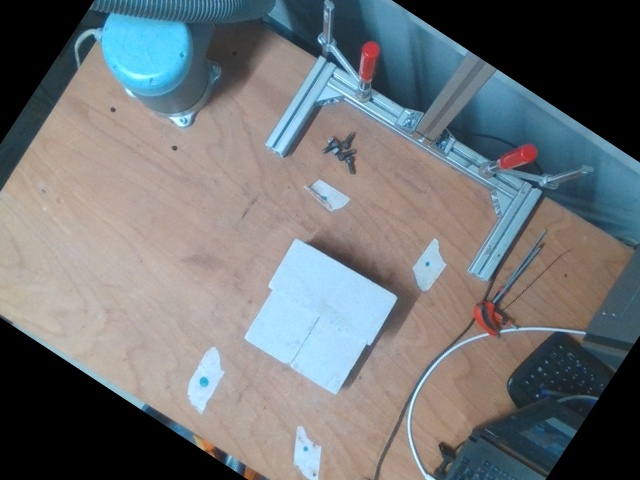brick: (266, 237, 398, 348)
